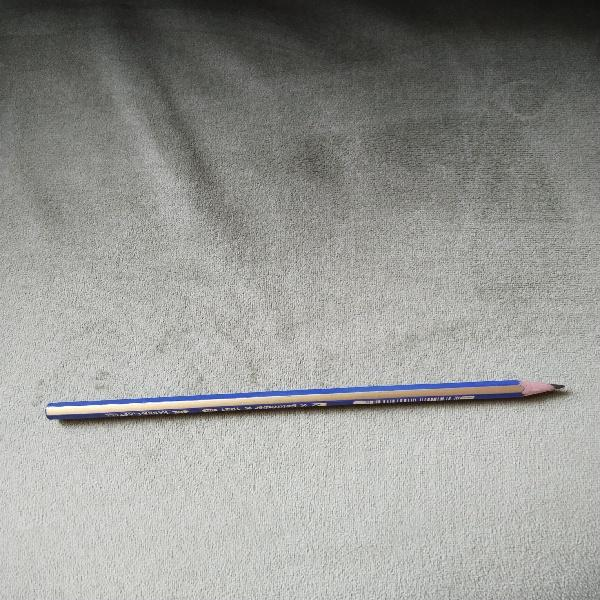pencil: (45, 380, 563, 419)
